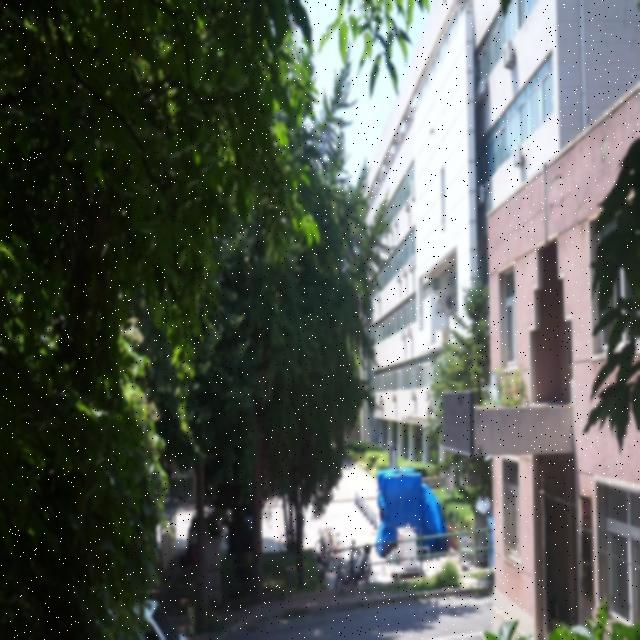UAV: (430, 128, 434, 135)
